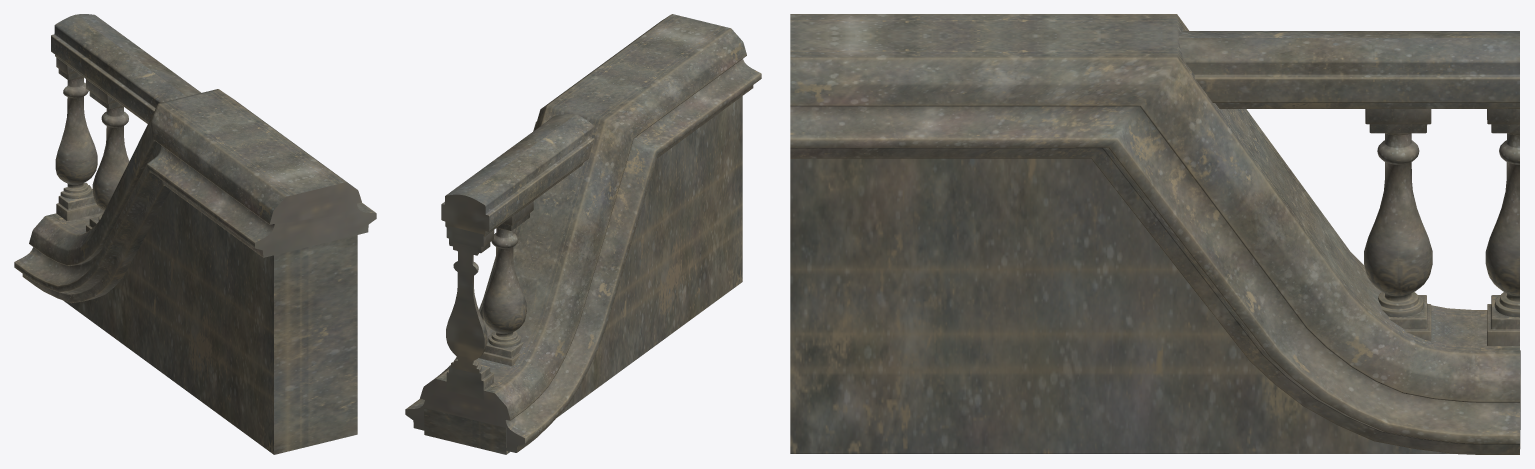
Rendered from SM_Fence01_2_LOD0.glb.
3 renders of one model, left to right at view 1: azimuth 30°, elevation 25°; view 2: azimuth 150°, elevation 25°; view 3: azimuth 270°, elevation 25°, orthographic. The views are drawn at different scales.
Parts seen in each view (by area): view 1: SM_Fence01_2_LOD0; view 2: SM_Fence01_2_LOD0; view 3: SM_Fence01_2_LOD0.
Boxes of the visible parts, left/top/right/bottom form: SM_Fence01_2_LOD0: left=14, top=14, right=376, bottom=454; SM_Fence01_2_LOD0: left=405, top=14, right=761, bottom=454; SM_Fence01_2_LOD0: left=790, top=14, right=1520, bottom=454.
Size of the model in its own units: 0.5848 by 1.17 by 2.
Materials: 1 (1 with a texture image).
